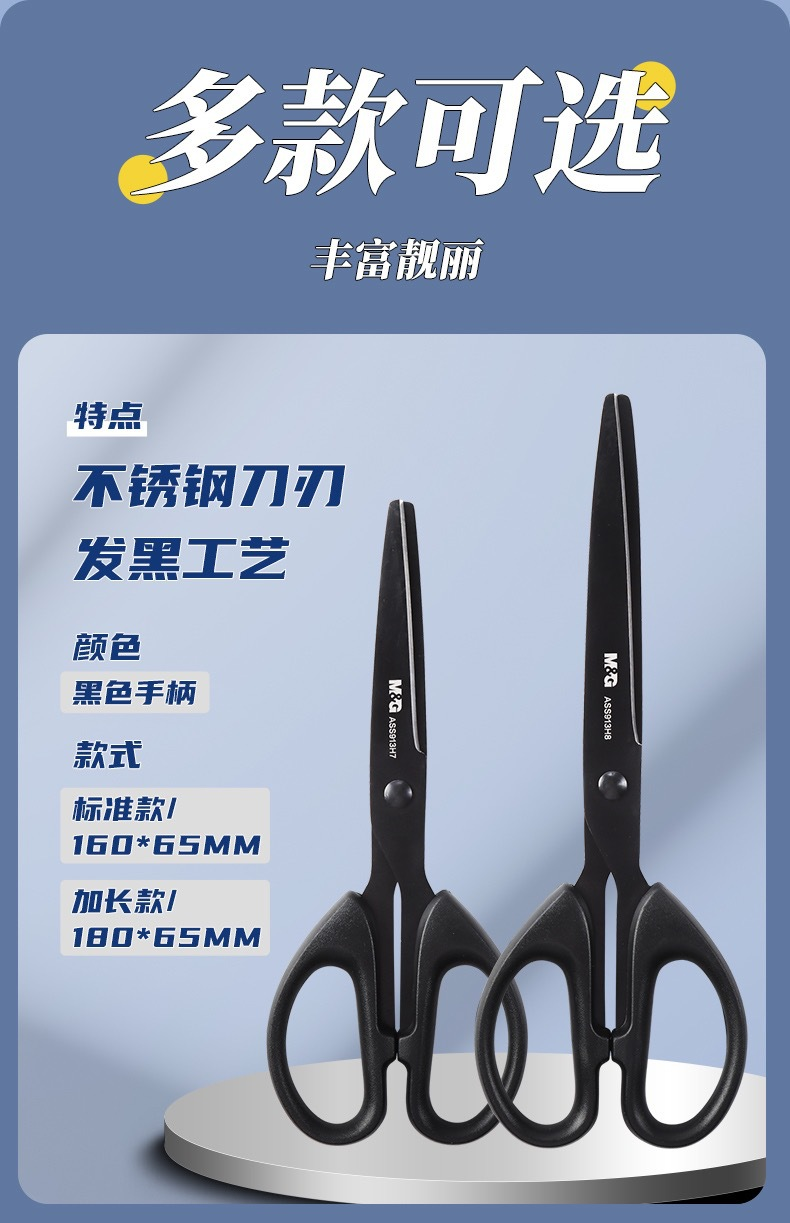scissors: (468, 387, 752, 1153), (262, 495, 533, 1153)
